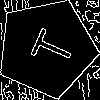T: (21, 23, 77, 71)
